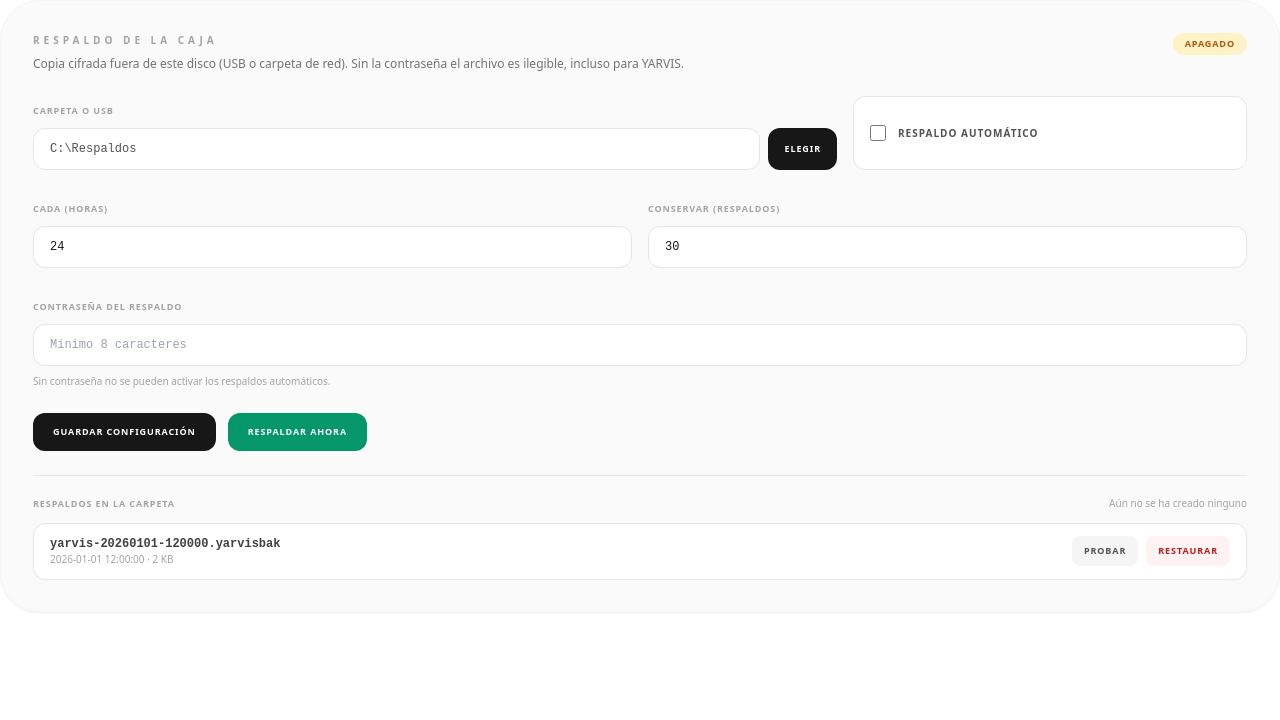
respaldos · UI › no deja activar sin contraseña cuando no hay una guardada
expect the text "yarvis-20260101-120000.yarvisbak" is shown: met, box [50, 536, 280, 552]
Click the checkbox.
click(878, 133)  # box [870, 125, 886, 141]
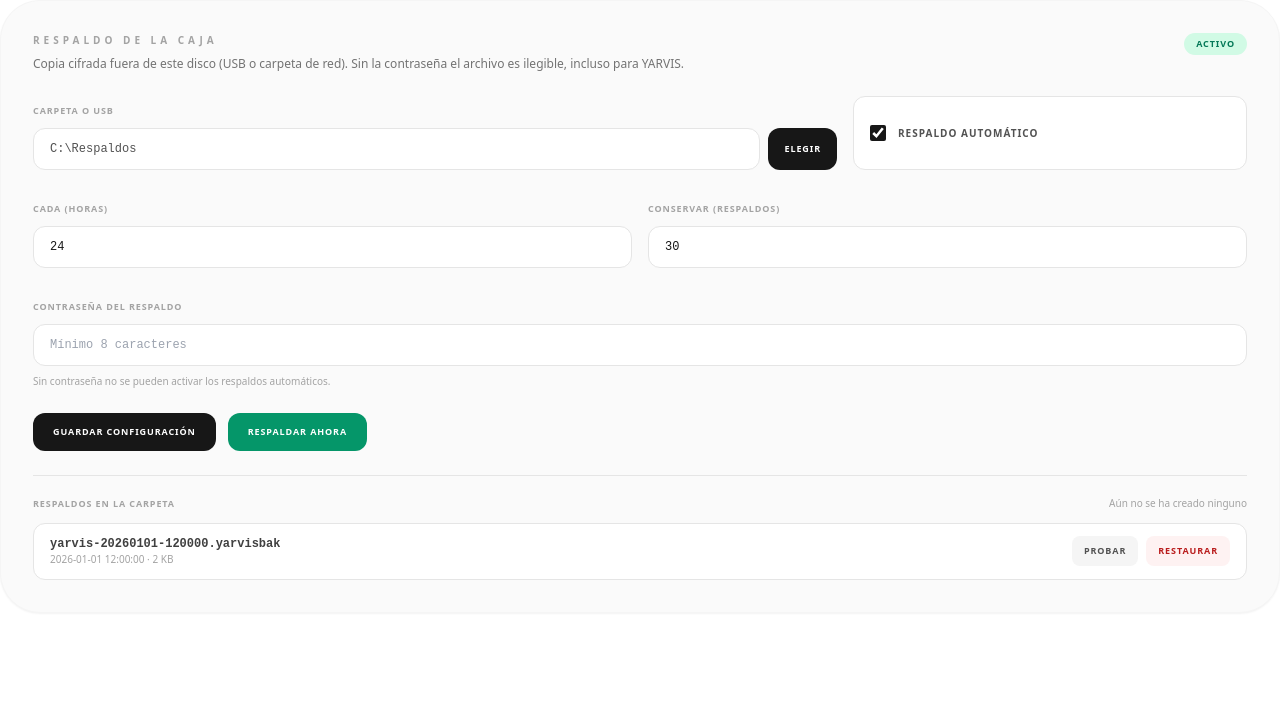
Click the button "Guardar configuración".
click(124, 432)  # box [33, 413, 216, 450]
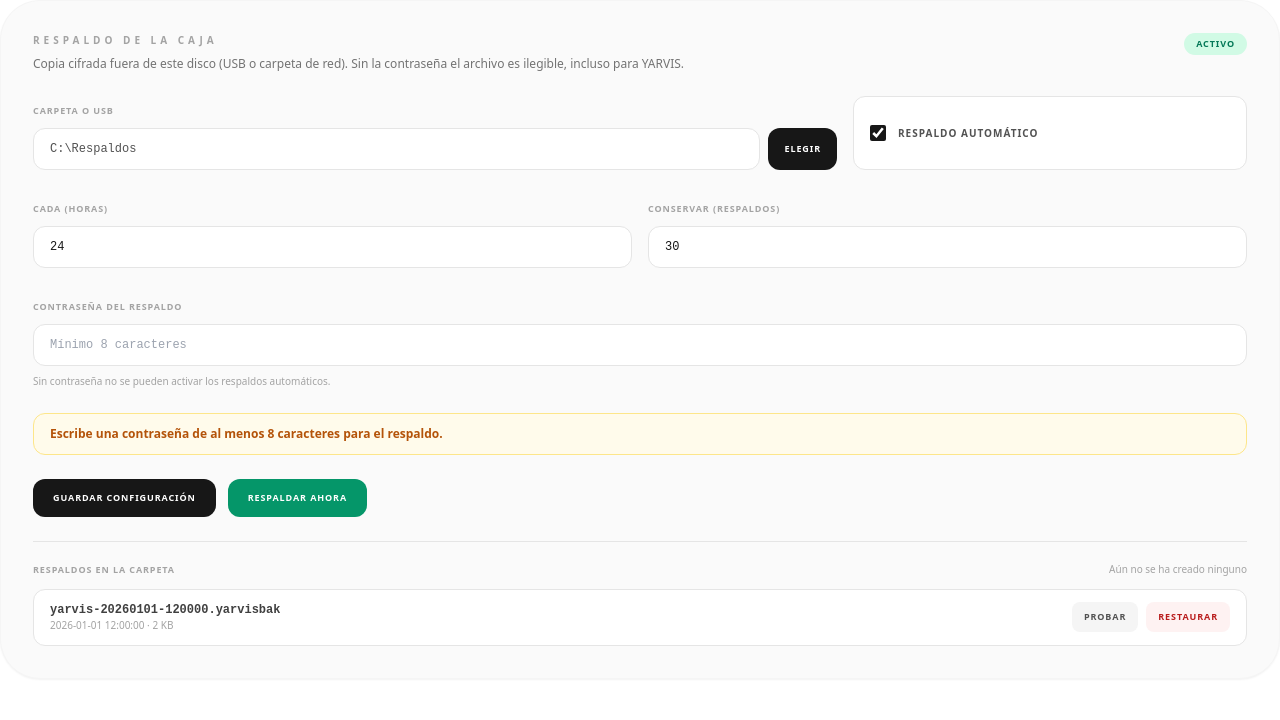
expect the message shows "contraseña de al menos 8": met, box [50, 425, 443, 442]
